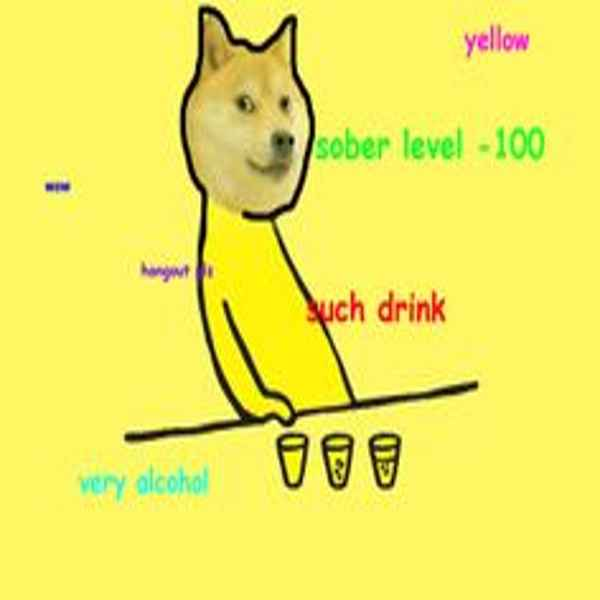doge: (171, 8, 324, 226)
